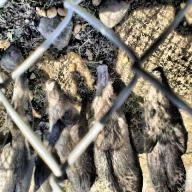boar: (91, 49, 135, 192), (141, 69, 188, 192), (40, 82, 88, 192), (0, 74, 38, 192)
